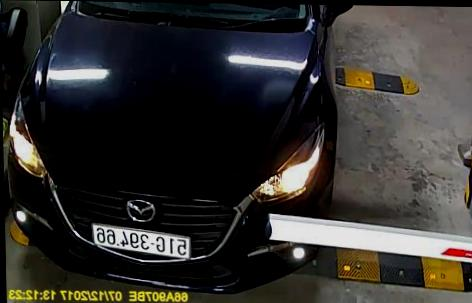License_Plate: (92, 217, 193, 259)
